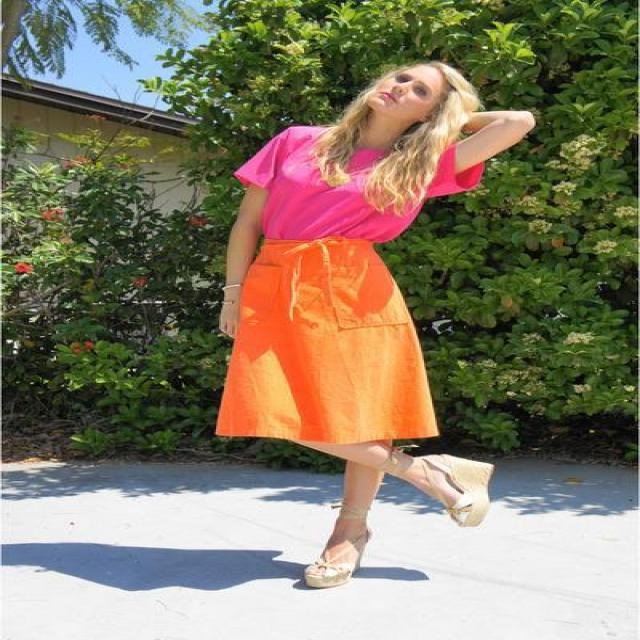shirt: (234, 123, 483, 242)
shoe: (306, 454, 492, 588)
skirt: (216, 235, 438, 442)
